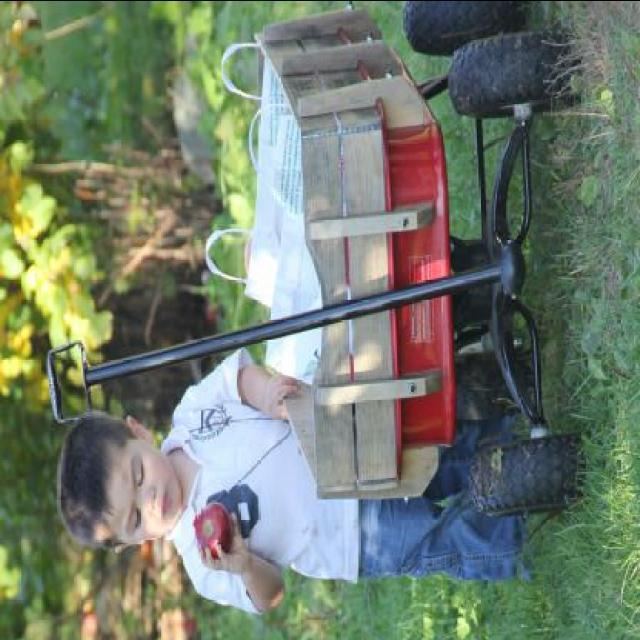Apple pie: (190, 500, 233, 557)
